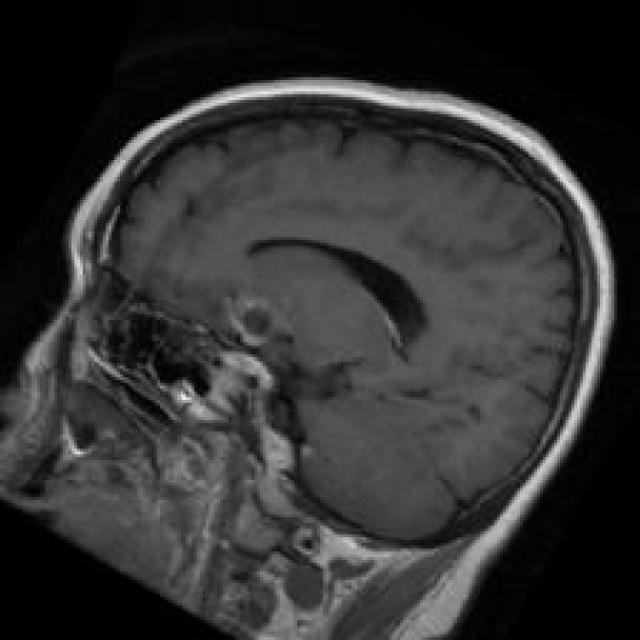pituitary_tumor: (196, 278, 298, 436)
